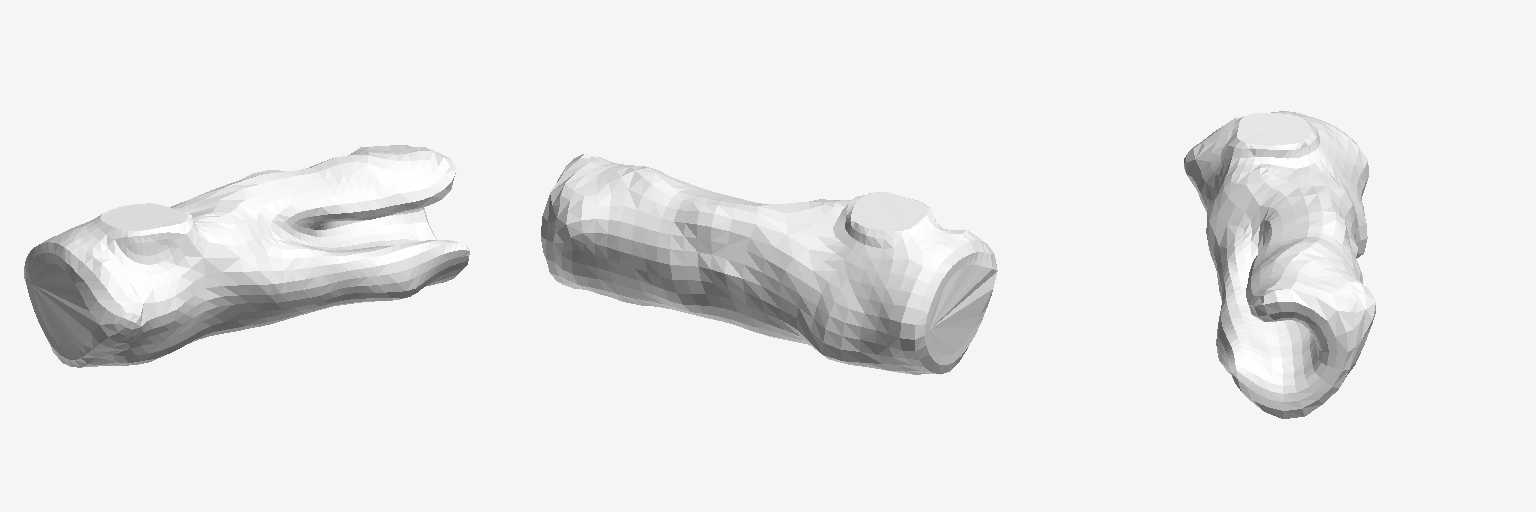
The model's file is Log02.Obj.
The picture shows the model from 3 angles: view 1: azimuth 30°, elevation 25°; view 2: azimuth 150°, elevation 25°; view 3: azimuth 270°, elevation 25°; orthographic projection.
Visible parts, largest first — view 1: Volume5; view 2: Volume5; view 3: Volume5.
Part boxes in pixels (left/top/right/bottom): Volume5: left=24, top=145, right=469, bottom=367; Volume5: left=541, top=153, right=997, bottom=374; Volume5: left=1184, top=111, right=1375, bottom=418.
Bounding box in the file's own units: 146 × 51.36 × 62.28.